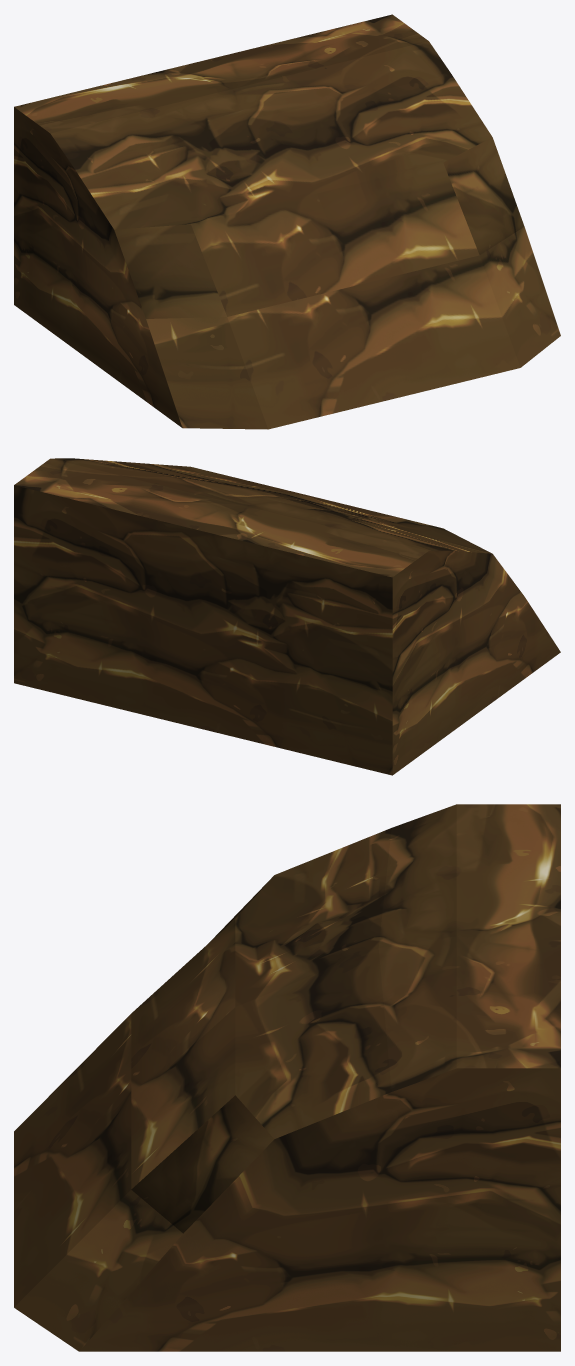
File: Mountain_Center_1x1x2.fbx
3 views of the same model, one above another, from view 1: azimuth 30°, elevation 25°; view 2: azimuth 150°, elevation 25°; view 3: azimuth 270°, elevation 25° (orthographic). The views are drawn at different scales.
Visible parts, largest first — view 1: Mountain_Center_1x1x2; view 2: Mountain_Center_1x1x2; view 3: Mountain_Center_1x1x2.
Part boxes in pixels (x1,y1,x2,y2): Mountain_Center_1x1x2: (14, 14, 560, 429); Mountain_Center_1x1x2: (14, 458, 560, 775); Mountain_Center_1x1x2: (14, 804, 560, 1351).
Size of the model in its own units: 3 by 2.63 by 1.5.
